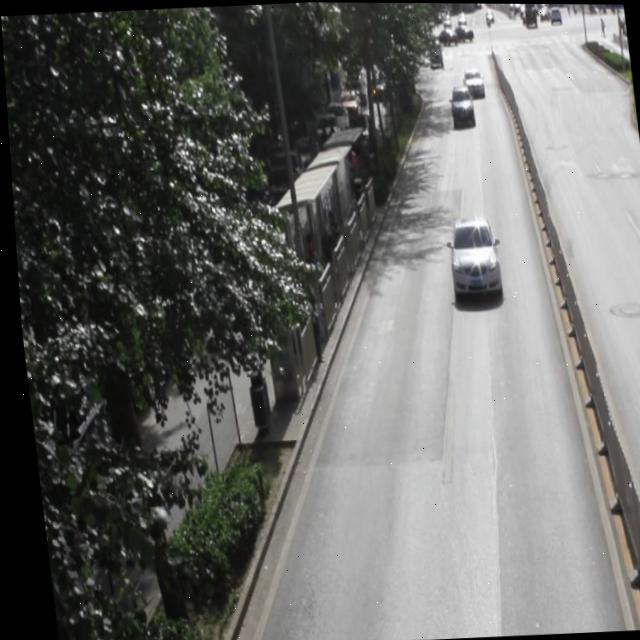car: (442, 215, 498, 302), (446, 84, 473, 125)
